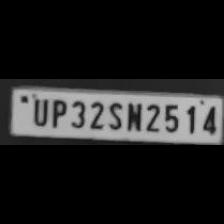1: (180, 102, 198, 134)
2: (86, 98, 104, 130), (143, 101, 161, 133)
3: (66, 97, 86, 129)
4: (198, 102, 218, 136)
5: (160, 100, 180, 134)
N: (124, 100, 142, 132)
P: (47, 96, 66, 128)
S: (105, 99, 123, 131)
U: (28, 95, 50, 127)
